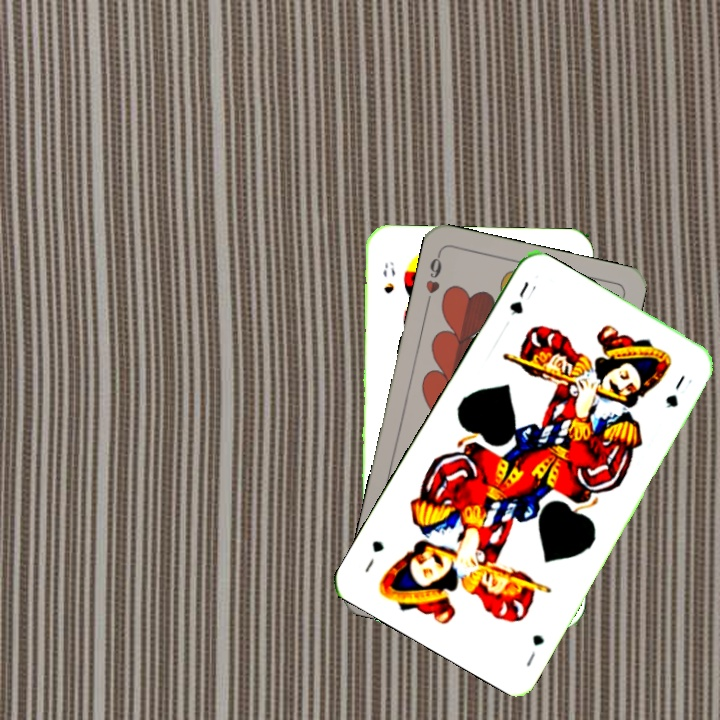GU: (505, 277, 540, 318), (522, 630, 547, 670)
H9: (421, 248, 444, 307)
S8: (379, 258, 398, 296)
